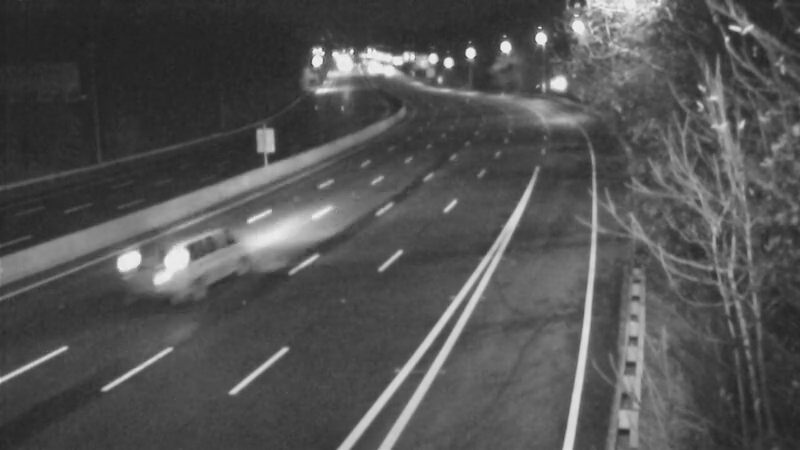vehicle: (141, 224, 221, 304)
